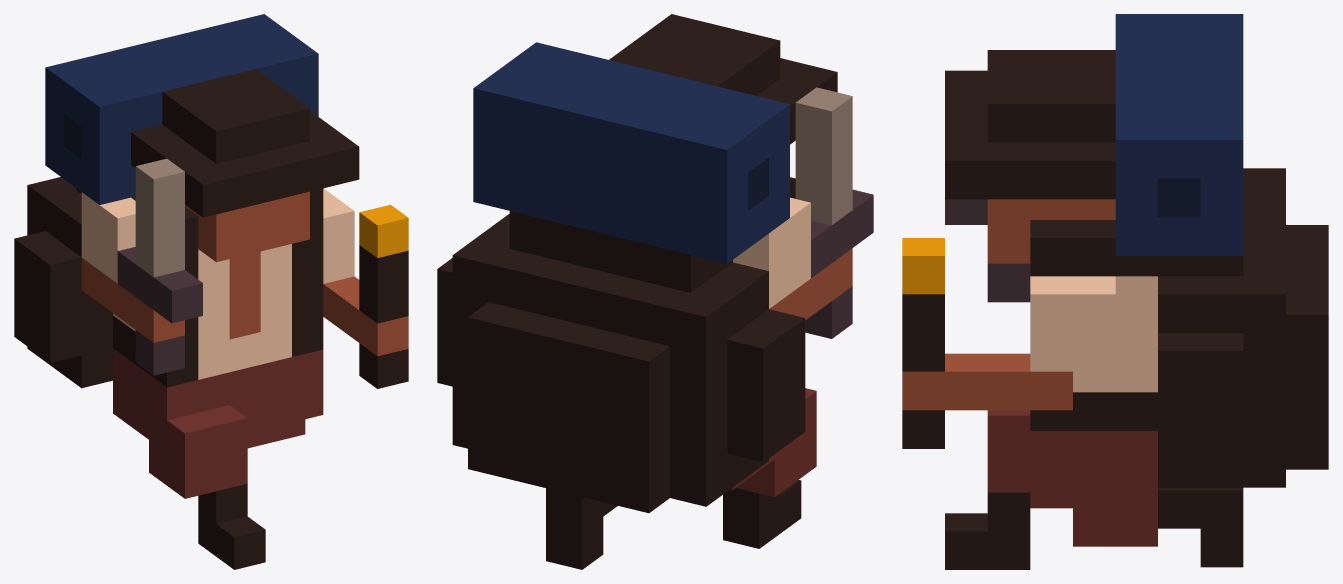
The model's file is adventurer_walk_0.obj.
3 renders of one model, left to right at view 1: azimuth 30°, elevation 25°; view 2: azimuth 150°, elevation 25°; view 3: azimuth 270°, elevation 25°, orthographic. The views are drawn at different scales.
Bounding box in the file's own units: 0.9 × 1.3 × 1.
1 material, 1 textured.
